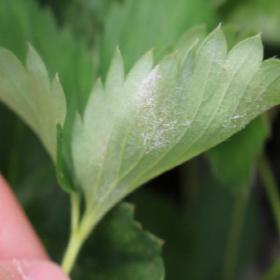Powdery Mildew Leaf: (71, 21, 279, 225)
